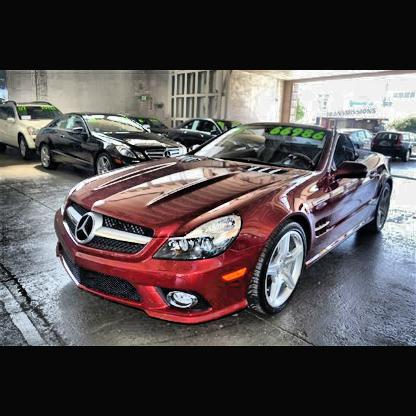Mercedes-Benz SL-Class Coupe 2009: (55, 124, 393, 326)
